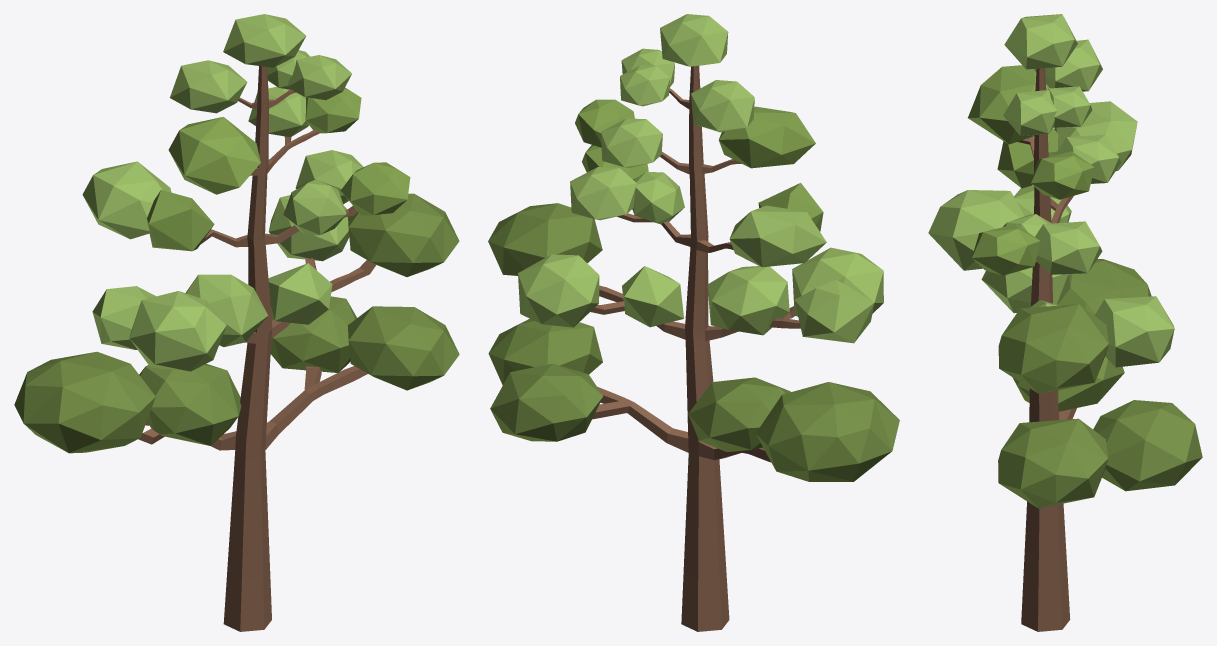
File: japan_tree_5.fbx
3 views of the same model, side by side, from view 1: azimuth 30°, elevation 25°; view 2: azimuth 150°, elevation 25°; view 3: azimuth 270°, elevation 25° (orthographic). The views are drawn at different scales.
Parts seen in each view (by area): view 1: japan_tree_5; view 2: japan_tree_5; view 3: japan_tree_5.
Boxes of the visible parts, x1=… form: japan_tree_5: x1=14, y1=14, x2=459, y2=631; japan_tree_5: x1=488, y1=14, x2=899, y2=631; japan_tree_5: x1=928, y1=14, x2=1202, y2=631.
Bounding box in the file's own units: 582 × 814 × 333.
